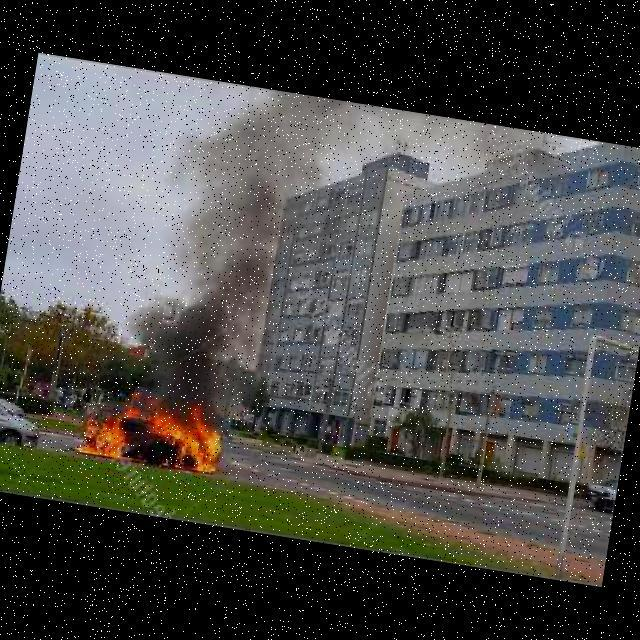Fire: (70, 380, 244, 483)
Smoke: (120, 73, 354, 411)
